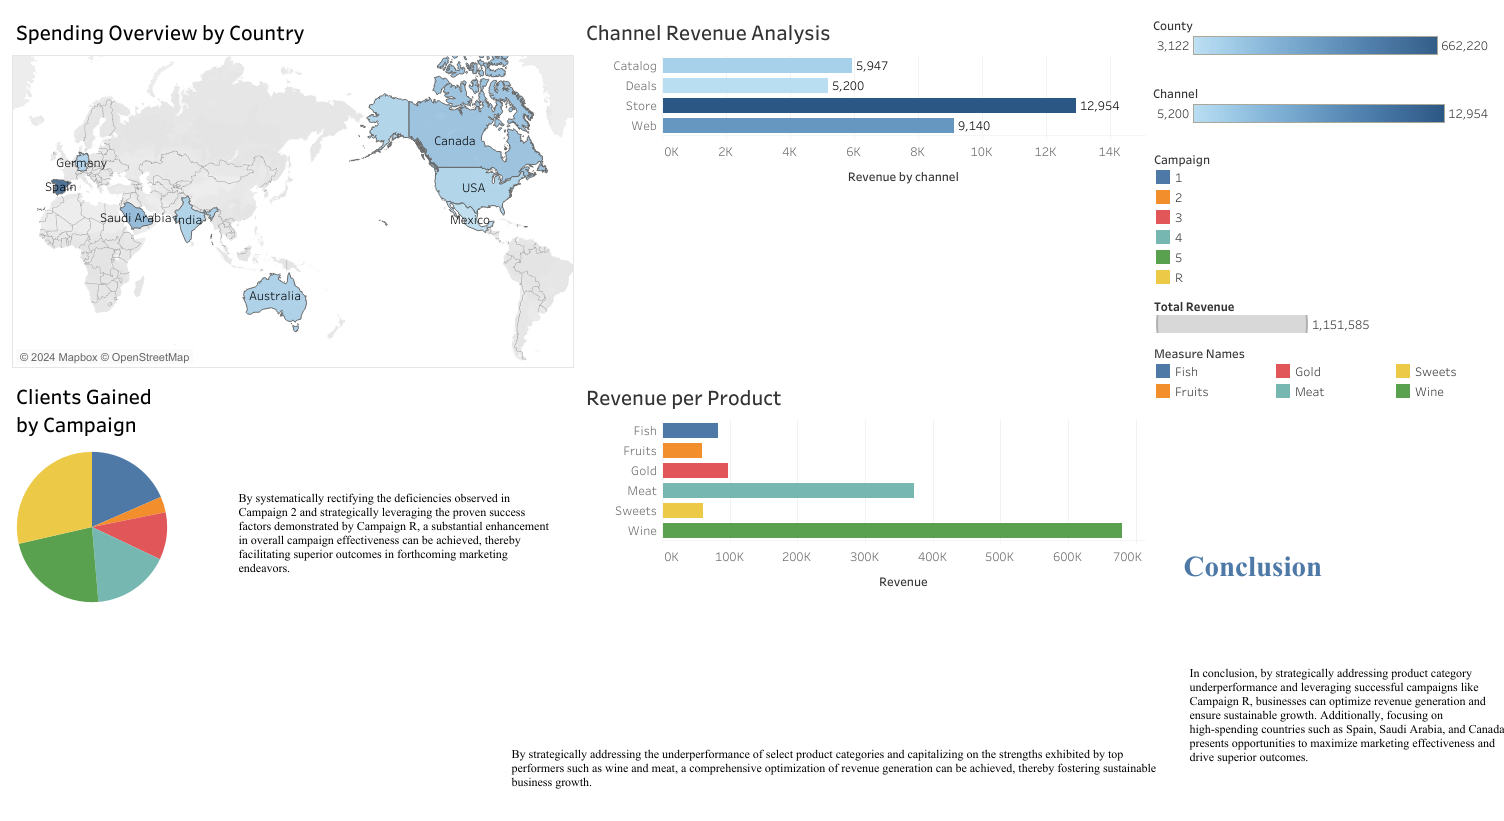

Layout of this report page (visuals, bound fields, positions):
{"tool":"tableau","page":{"name":"Dashboard 1","canvas":[1000,1000],"units":"permille","ordinal":0},"visuals":[{"type":"worksheet","title":"Countries","mark":"Automatic","box":[5,9.9,386.5,442.9]},{"type":"worksheet","title":"Channel","mark":"Automatic","rows":["F7"],"cols":["F8"],"box":[391.5,9.9,386.6,443.4]},{"type":"legend","title":"Countries","param":"[federated.1tu203l1w1fl1117ecug31w909zl].[sum:Total:qk]","box":[778.1,9.9,217,100.5]},{"type":"legend","title":"Channel","param":"[federated.1tu203l1w1fl1117ecug31w909zl].[sum:F8:qk]","box":[778.1,110.4,217,100.5]},{"type":"legend","title":"Campaign","param":"[federated.1tu203l1w1fl1117ecug31w909zl].[none:Campaign:nk]","box":[778.1,210.9,217,228.3]},{"type":"legend","title":"Campaign","param":"[federated.1tu203l1w1fl1117ecug31w909zl].[sum:Clients:qk]","box":[778.1,439.2,217,73.2]},{"type":"worksheet","title":"Campaign","mark":"Pie","box":[5,452.8,386.5,537.2]},{"type":"worksheet","title":"Product","mark":"Automatic","box":[391.5,453.4,386.6,536.7]},{"type":"legend","title":"Product","param":"[federated.1tu203l1w1fl1117ecug31w909zl].[:Measure Names]","box":[778.1,512.4,217,89.3]},{"type":"text","box":[156.5,529.6,213.2,236.9]},{"type":"text","box":[784.9,627.6,141.5,123]},{"type":"text","box":[788.6,718.7,214.5,280.2]},{"type":"text","box":[337.9,870.2,443.9,127.6]}]}

Visuals, with their boxes on the dashboard's canvas, which has no fixed pixel size, in thousandths of its width and height (x1, y1, x2, y2). These are canvas units, not pixel positions in the 1504x821 screenshot, which may show the page scaled, cropped or inside an application window:
"Countries" worksheet: 5/10/392/453
"Channel" worksheet: 392/10/778/453
"Countries" legend: 778/10/995/110
"Channel" legend: 778/110/995/211
"Campaign" legend: 778/211/995/439
"Campaign" legend: 778/439/995/512
"Campaign" worksheet (Pie marks): 5/453/392/990
"Product" worksheet: 392/453/778/990
"Product" legend: 778/512/995/602
text: 156/530/370/766
text: 785/628/926/751
text: 789/719/1003/999
text: 338/870/782/998
